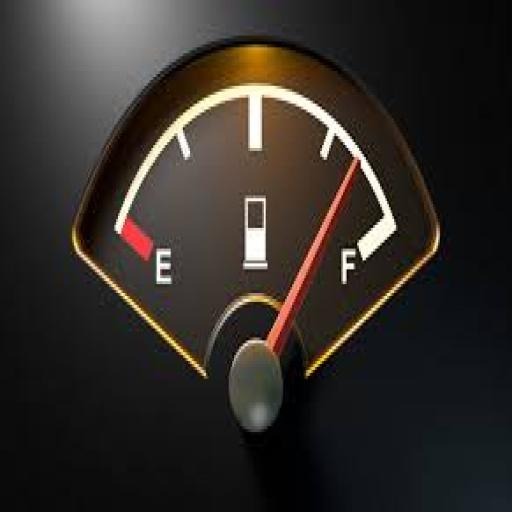empty: (152, 244, 179, 290)
fuel_icon: (234, 186, 276, 278)
full: (338, 240, 360, 296)
guage_area: (9, 2, 476, 488)
needle_center: (212, 298, 306, 464)
needle_tip: (340, 150, 370, 188)
